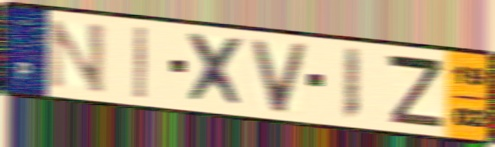I: (340, 45, 363, 124), (133, 23, 149, 101)
N: (46, 17, 108, 96)
V: (249, 37, 311, 116)
X: (183, 30, 249, 111)
Z: (384, 51, 446, 131)
